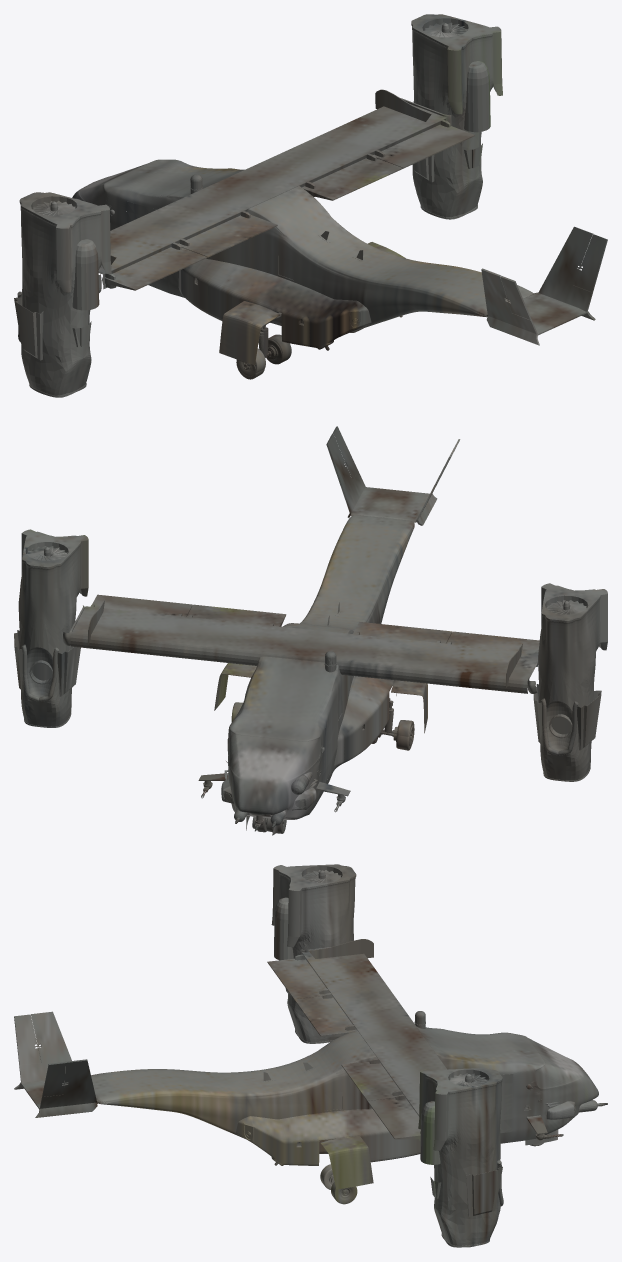
The model's file is condor_as78.glb.
The picture shows the model from 3 angles, top to bottom: view 1: azimuth 30°, elevation 25°; view 2: azimuth 150°, elevation 25°; view 3: azimuth 270°, elevation 25°; orthographic projection. The views are drawn at different scales.
Visible parts, largest first — view 1: part_26, part_13, part_39, part_25, part_18, part_20, part_19, part_10, part_27, part_33, part_12; view 2: part_26, part_13, part_39, part_18, part_25, part_27, part_43, part_20, part_19, part_10, part_23, part_21; view 3: part_26, part_13, part_39, part_25, part_18, part_20, part_27, part_43, part_19, part_21, part_10.
Boxes of the visible parts, box(x1,y1,x2,y2) form: part_26: box(72, 159, 607, 345); part_13: box(14, 14, 502, 397); part_39: box(98, 104, 450, 355); part_25: box(178, 258, 371, 349); part_18: box(105, 124, 474, 290); part_20: box(219, 242, 405, 365); part_19: box(98, 89, 451, 292); part_10: box(33, 22, 467, 215); part_27: box(83, 165, 293, 279); part_33: box(237, 328, 363, 376); part_12: box(31, 18, 468, 213); part_26: box(228, 426, 460, 819); part_13: box(14, 529, 607, 781); part_39: box(72, 604, 538, 733); part_18: box(70, 594, 539, 693); part_25: box(244, 623, 396, 772); part_27: box(228, 697, 341, 775); part_43: box(198, 772, 350, 828); part_20: box(214, 663, 427, 835); part_19: box(63, 599, 537, 693); part_10: box(26, 546, 586, 614); part_23: box(32, 663, 571, 807); part_21: box(322, 703, 389, 783); part_26: box(14, 1011, 598, 1153); part_13: box(271, 864, 503, 1247); part_39: box(295, 951, 446, 1133); part_25: box(236, 1108, 420, 1165); part_18: box(267, 955, 444, 1141); part_20: box(320, 1129, 558, 1189); part_27: box(324, 1041, 576, 1110); part_43: box(526, 1100, 607, 1140); part_19: box(300, 939, 373, 958); part_21: box(500, 1074, 513, 1133); part_10: box(303, 870, 487, 1086).
Size of the model in its own units: 0.9419 by 0.3545 by 1.
1 material, 1 textured.
